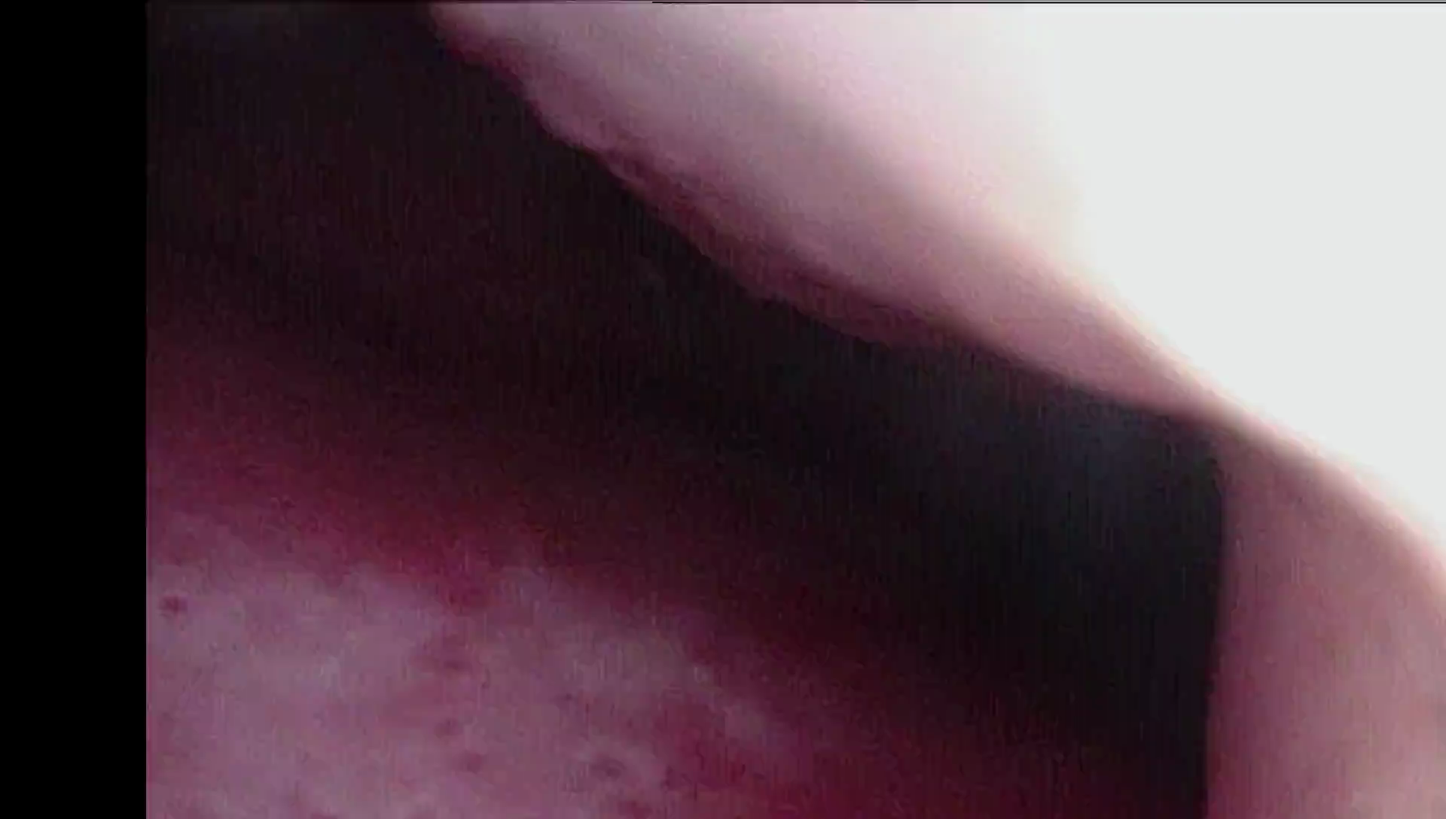close_wall: (697, 0, 1446, 503)
next: (862, 306, 1259, 770)
